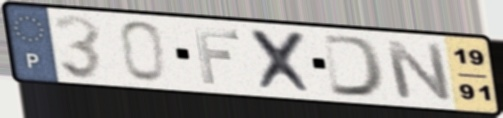0: (116, 18, 173, 85)
3: (51, 13, 109, 81)
D: (320, 32, 389, 100)
F: (191, 25, 243, 86)
N: (381, 38, 456, 103)
X: (247, 27, 320, 96)
